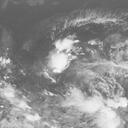cyclone: (45, 34, 77, 74)
